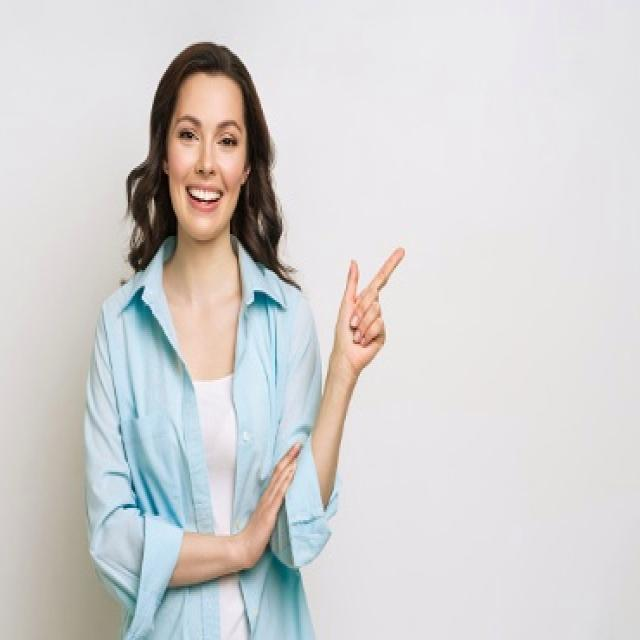adult: (83, 34, 413, 636)
